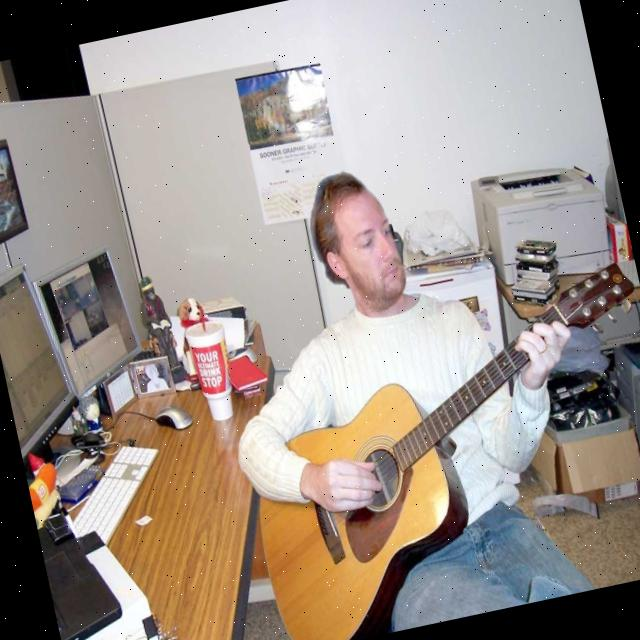guitar: (218, 257, 640, 640)
